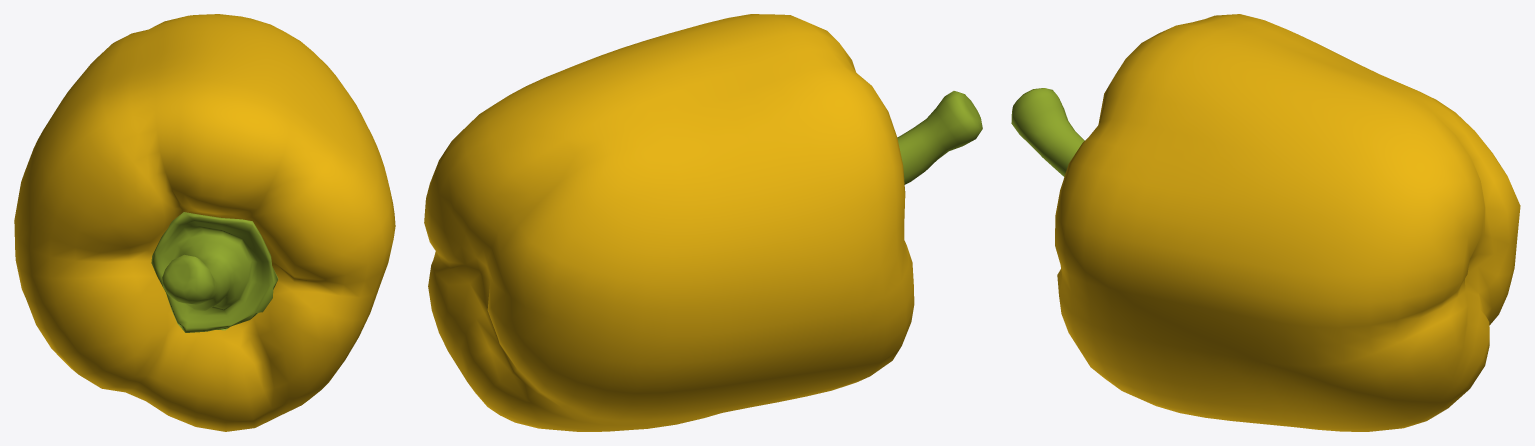
Rendered from BellPepper3.fbx.
3 renders of one model, left to right at view 1: azimuth 30°, elevation 25°; view 2: azimuth 150°, elevation 25°; view 3: azimuth 270°, elevation 25°, orthographic. The views are drawn at different scales.
Parts seen in each view (by area): view 1: BellPepper3; view 2: BellPepper3; view 3: BellPepper3.
Part boxes in pixels (x1,y1,x2,y2): BellPepper3: [14, 14, 395, 431]; BellPepper3: [424, 14, 982, 431]; BellPepper3: [1011, 14, 1520, 431].
Size of the model in its own units: 0.0439 by 0.0382 by 0.0505.
Materials: 1 (1 with a texture image).
